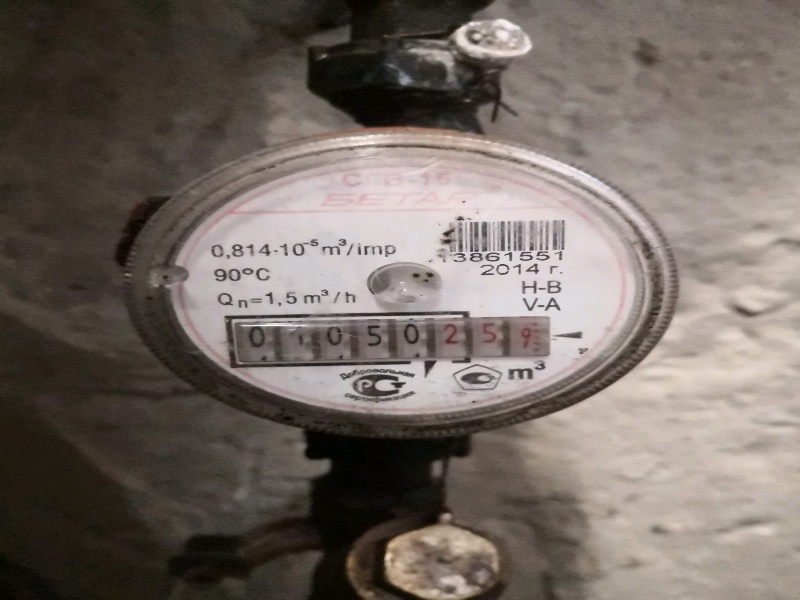meter: (224, 313, 546, 356)
